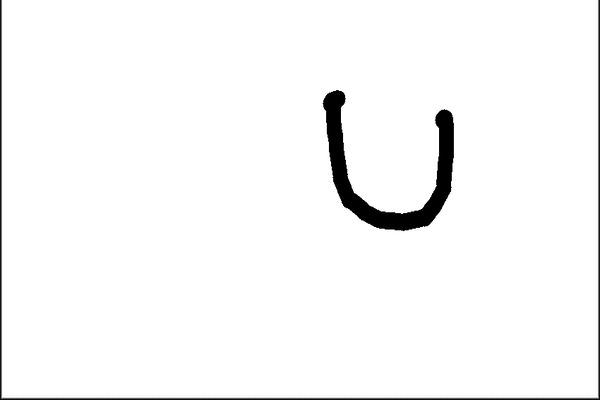U: (312, 75, 469, 243)
